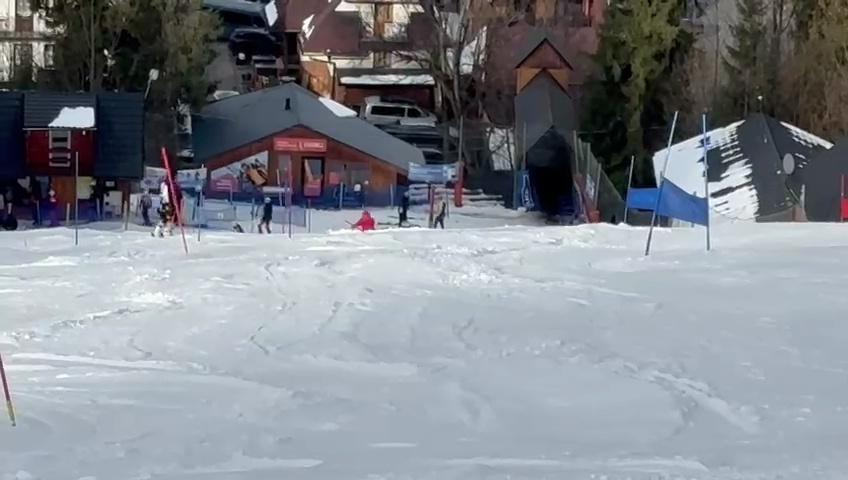gate: (642, 102, 682, 269), (690, 105, 728, 255), (152, 147, 194, 260), (193, 160, 215, 248), (618, 143, 637, 232), (285, 147, 298, 250), (72, 150, 82, 254)
